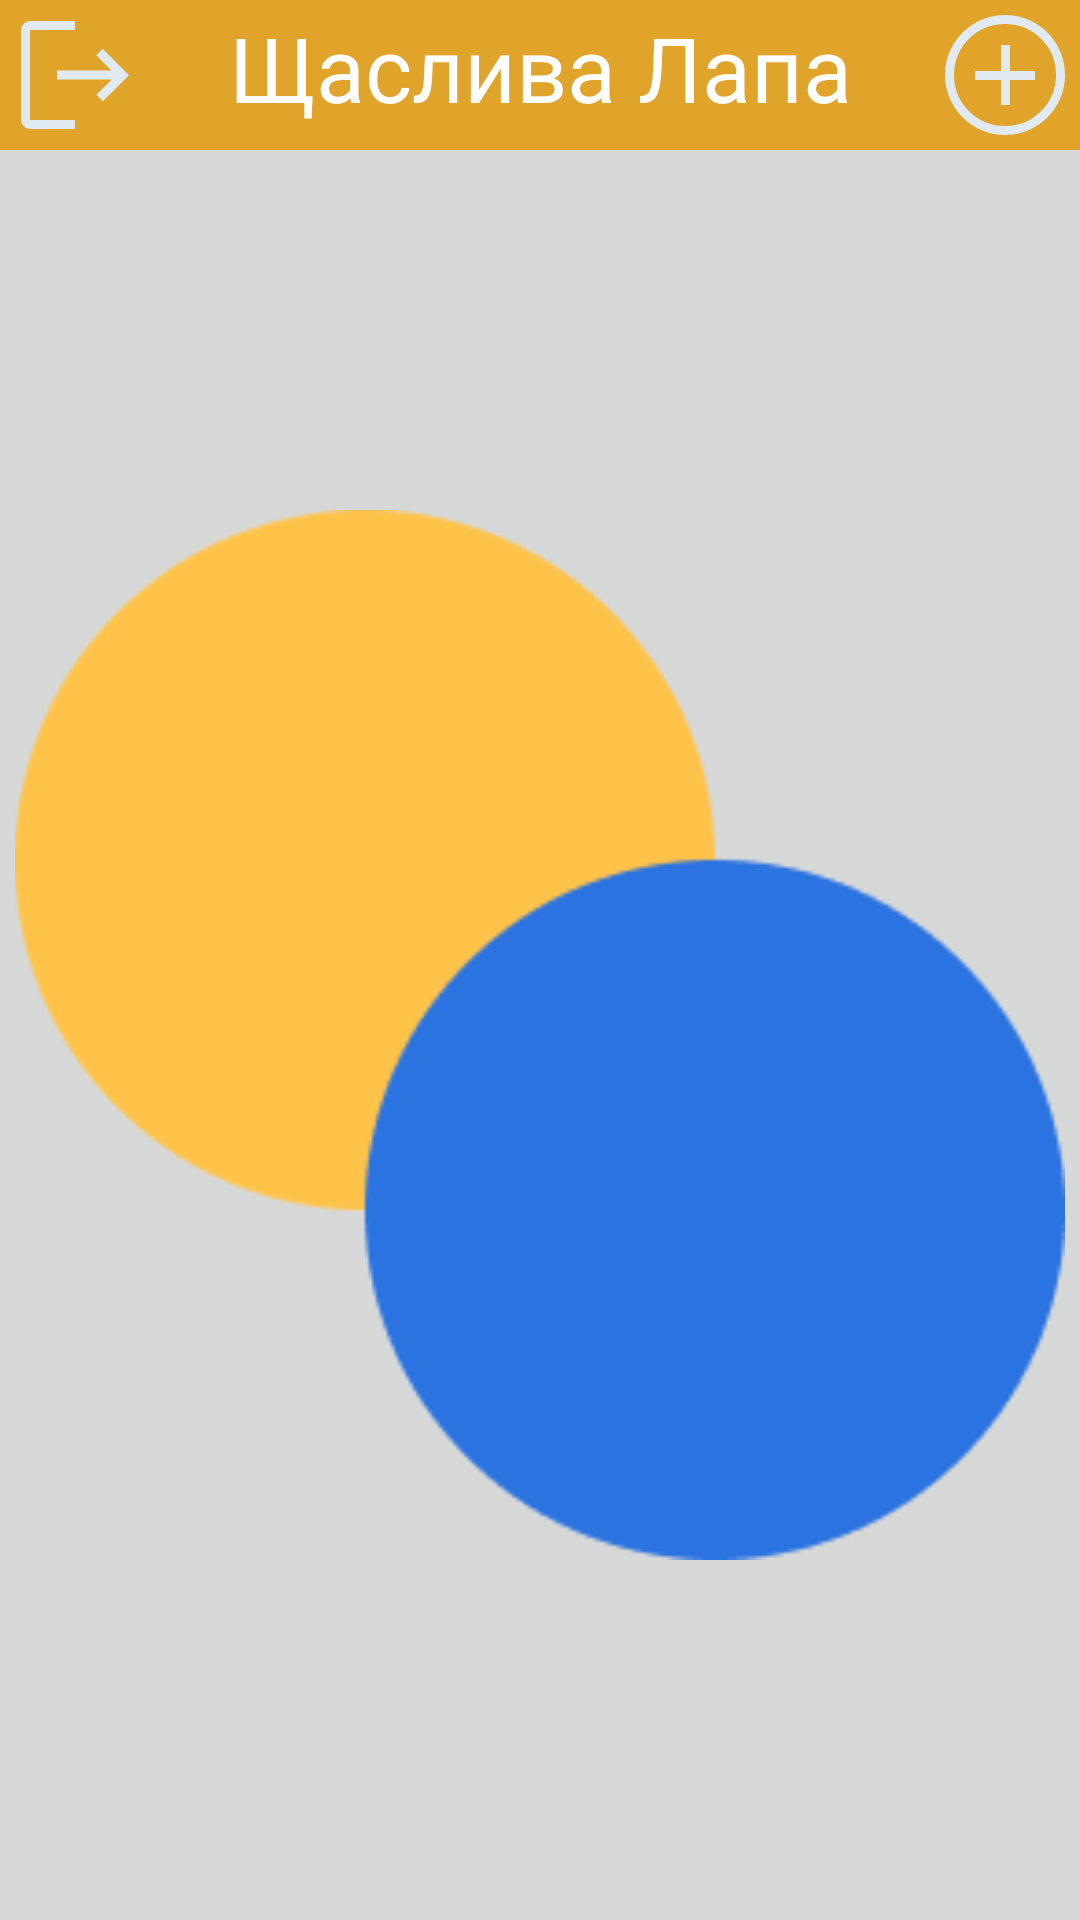

Screen size 1080×1920. Icon name, then its box in pixels as (x1, y1, x2, y2):
add circle: (945, 15, 1065, 135)
